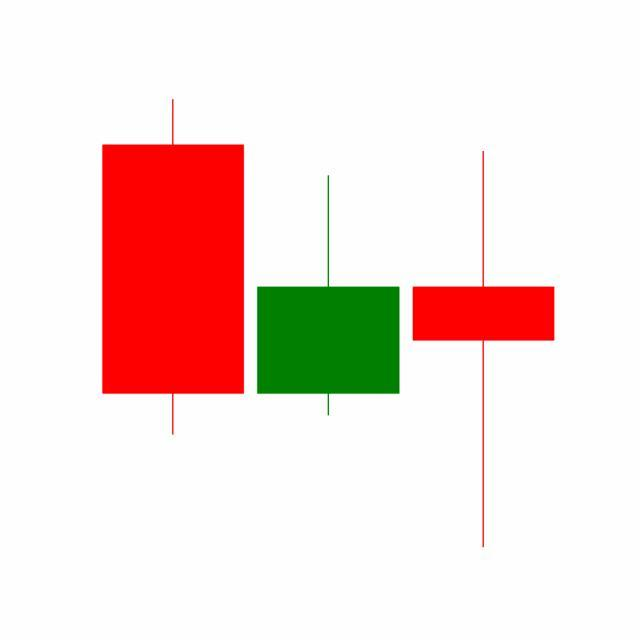Spinning Top: (406, 147, 562, 553)
